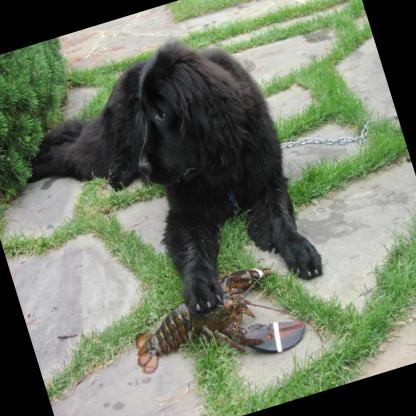Newfoundland: (0, 14, 326, 349)
